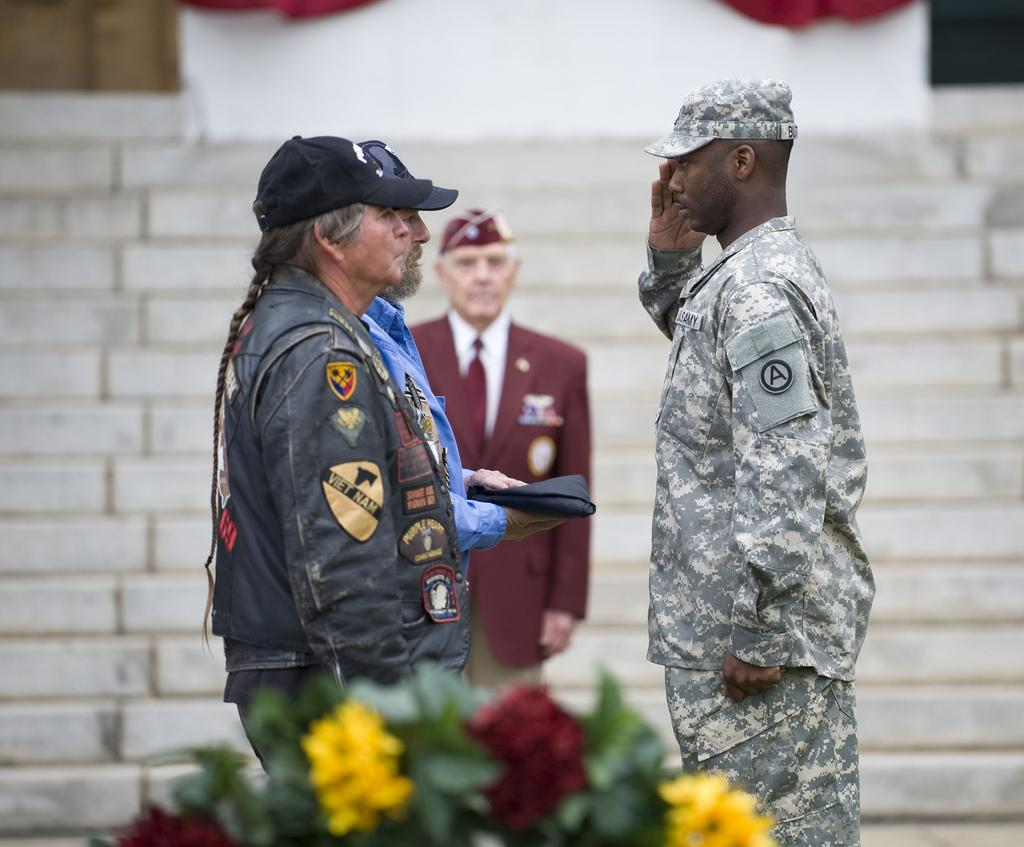Hat: (252, 136, 432, 231), (642, 78, 796, 162), (357, 140, 457, 212)
